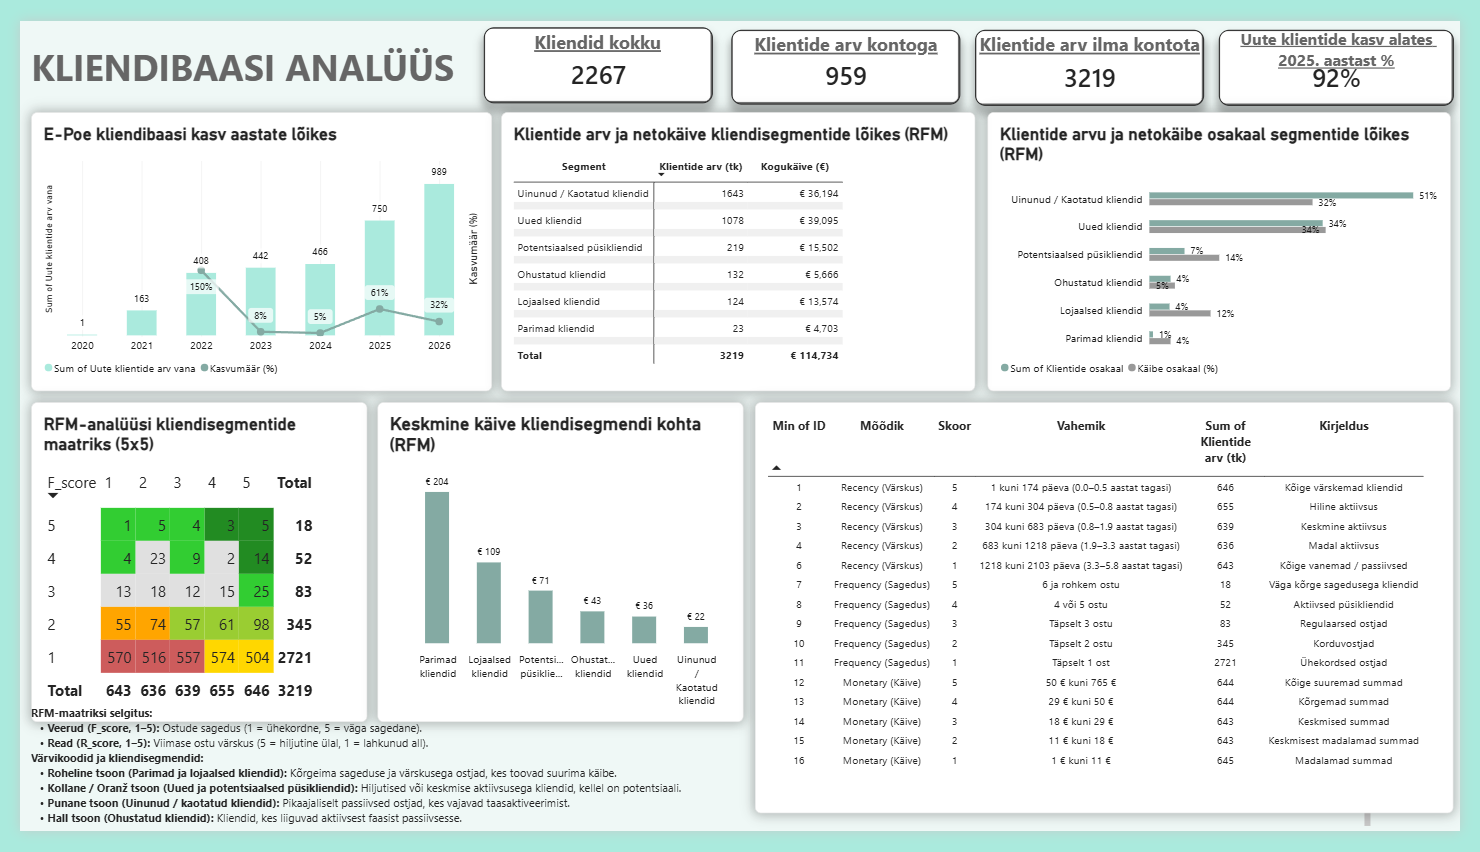

The dashboard page shown, as its layout file describes it:
{"tool":"powerbi","page":{"name":"KLIENDIBAASI ANALÜÜS ","canvas":[1920,1080],"ordinal":2},"visuals":[{"type":"textbox","box":[14.3,28.5,945.7,82.4],"z":0},{"type":"cardVisual","fields":{"Data":["Sum(3 1 Kliendibaasi kasv aast lõik.Uute klientide arv vana)"]},"box":[1273.7,11.1,305.7,101.4],"z":1000},{"type":"cardVisual","fields":{"Data":["3 1 Kliendibaasi kasv aast lõik.Uute_kliendide_perioodide_võrdlus_%","3 1 Kliendibaasi kasv aast lõik.Uute_kliendide_perioodide_võrdlus_%"]},"box":[1598.4,11.1,313.7,101.4],"z":2000},{"type":"cardVisual","fields":{"Data":["Arvutused.Klientide_arv_kontoga"]},"box":[948.9,11.1,305.7,99.8],"z":3000},{"type":"cardVisual","fields":{"Data":["Arvutused.Klientide_arv_ilma_kontota"]},"box":[617.8,7.9,305.7,101.4],"z":4000},{"type":"textbox","box":[628.9,11.1,283.6,47.5],"z":6000},{"type":"textbox","box":[1598.4,7.9,313.7,61.8],"z":7000},{"type":"textbox","box":[964.8,14.3,272.5,68.1],"z":8000},{"type":"lineStackedColumnComboChart","title":"E-Poe kliendibaasi kasv aastate lõikes","fields":{"Category":["3 1 Kliendibaasi kasv aast lõik.Aasta"],"Y":["Sum(3 1 Kliendibaasi kasv aast lõik.Uute klientide arv vana)"],"Y2":["3 1 Kliendibaasi kasv aast lõik.Kasvumäär (%)"]},"box":[14.3,122,614.7,372.3],"z":9000},{"type":"pivotTable","title":"RFM-analüüsi kliendisegmentide maatriks (5x5)","fields":{"Columns":["Kliendid_detsember_RFM.R_score"],"Rows":["Kliendid_detsember_RFM.F_score"],"Values":["Count(Kliendid_detsember_RFM.customer_id)"]},"box":[14.3,508.5,448.3,426.1],"z":10000},{"type":"clusteredBarChart","title":"Klientide arvu ja netokäibe osakaal segmentide lõikes (RFM)","fields":{"Category":["3 2  RFM-analüüs.Segment"],"Y":["Sum(3 2  RFM-analüüs.Klientide osakaal)","3 2  RFM-analüüs.Käibe osakaal (%)"]},"box":[1289.5,122,617.8,372.3],"z":11000},{"type":"clusteredColumnChart","title":"Keskmine käive kliendisegmendi kohta (RFM)","fields":{"Category":["3 2  RFM-analüüs.Segment"],"Y":["Sum(3 2  RFM-analüüs.Keskmine käive (€))"]},"box":[476.8,508.5,487.9,426.1],"z":12000},{"type":"pivotTable","title":"Klientide arv ja netokäive kliendisegmentide lõikes (RFM)","fields":{"Rows":["3 2  RFM-analüüs.Segment"],"Values":["Sum(3 2  RFM-analüüs.Klientide arv (tk))","Sum(3 2  RFM-analüüs.Kogukäive (€))"]},"box":[641.6,122,632.1,372.3],"z":13000},{"type":"textbox","box":[14.3,910.9,1785.3,169.5],"z":15000},{"type":"tableEx","fields":{"Values":["Min(3 2 RFM mõõdud.ID)","3 2 RFM mõõdud.Mõõdik","3 2 RFM mõõdud.Skoor","3 2 RFM mõõdud.Vahemik","Sum(3 2 RFM mõõdud.Klientide arv (tk))","3 2 RFM mõõdud.Kirjeldus"]},"box":[980.6,508.5,931.5,548.1],"z":16000},{"type":"textbox","box":[1273.7,14.3,305.7,55.4],"z":17000}]}

Visuals, with their boxes in screenshot pixels (x1, y1, x2, y2), scaled from the page's 1920x1080 canvas onto the 1480x852 screenshot:
textbox: box(11, 22, 740, 87)
cardVisual - Sum(3 1 Kliendibaasi kasv aast lõik.Uute klientide arv vana): box(982, 9, 1217, 89)
cardVisual - 3 1 Kliendibaasi kasv aast lõik.Uute_kliendide_perioodide_võrdlus_% x 3 1 Kliendibaasi kasv aast lõik.Uute_kliendide_perioodide_võrdlus_%: box(1232, 9, 1474, 89)
cardVisual - Arvutused.Klientide_arv_kontoga: box(731, 9, 967, 87)
cardVisual - Arvutused.Klientide_arv_ilma_kontota: box(476, 6, 712, 86)
textbox: box(485, 9, 703, 46)
textbox: box(1232, 6, 1474, 55)
textbox: box(744, 11, 954, 65)
"E-Poe kliendibaasi kasv aastate lõikes" lineStackedColumnComboChart: box(11, 96, 485, 390)
"RFM-analüüsi kliendisegmentide maatriks (5x5)" pivotTable: box(11, 401, 357, 737)
"Klientide arvu ja netokäibe osakaal segmentide lõikes (RFM)" clusteredBarChart: box(994, 96, 1470, 390)
"Keskmine käive kliendisegmendi kohta (RFM)" clusteredColumnChart: box(368, 401, 744, 737)
"Klientide arv ja netokäive kliendisegmentide lõikes (RFM)" pivotTable: box(495, 96, 982, 390)
textbox: box(11, 719, 1387, 851)
tableEx - Min(3 2 RFM mõõdud.ID) x 3 2 RFM mõõdud.Mõõdik: box(756, 401, 1474, 834)
textbox: box(982, 11, 1217, 55)
